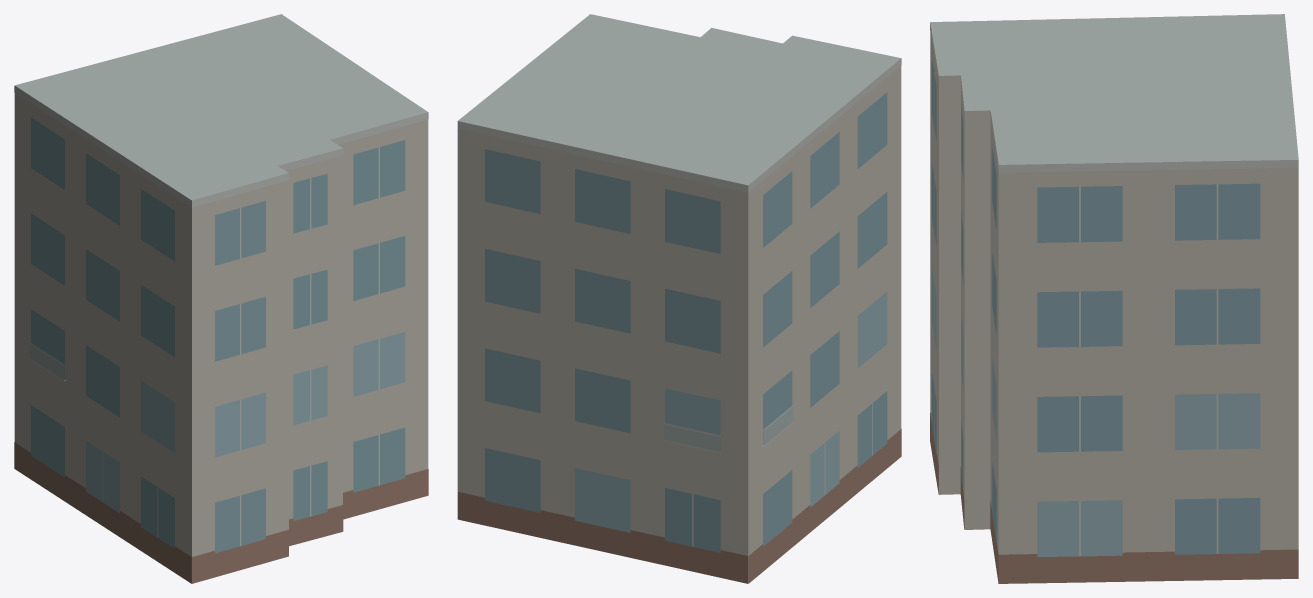
Rendered from survey-upis-33011252.glb.
3 renders of one model, left to right at view 1: azimuth 30°, elevation 25°; view 2: azimuth 150°, elevation 25°; view 3: azimuth 270°, elevation 25°, orthographic. The views are drawn at different scales.
Visible parts, largest first — view 1: survey-upis-33011252.tmp; view 2: survey-upis-33011252.tmp; view 3: survey-upis-33011252.tmp.
Part boxes in pixels (left/top/right/bottom): survey-upis-33011252.tmp: left=14, top=14, right=428, bottom=583; survey-upis-33011252.tmp: left=457, top=14, right=901, bottom=583; survey-upis-33011252.tmp: left=930, top=14, right=1298, bottom=583.
Size of the model in its own units: 10.05 by 13 by 10.38.
